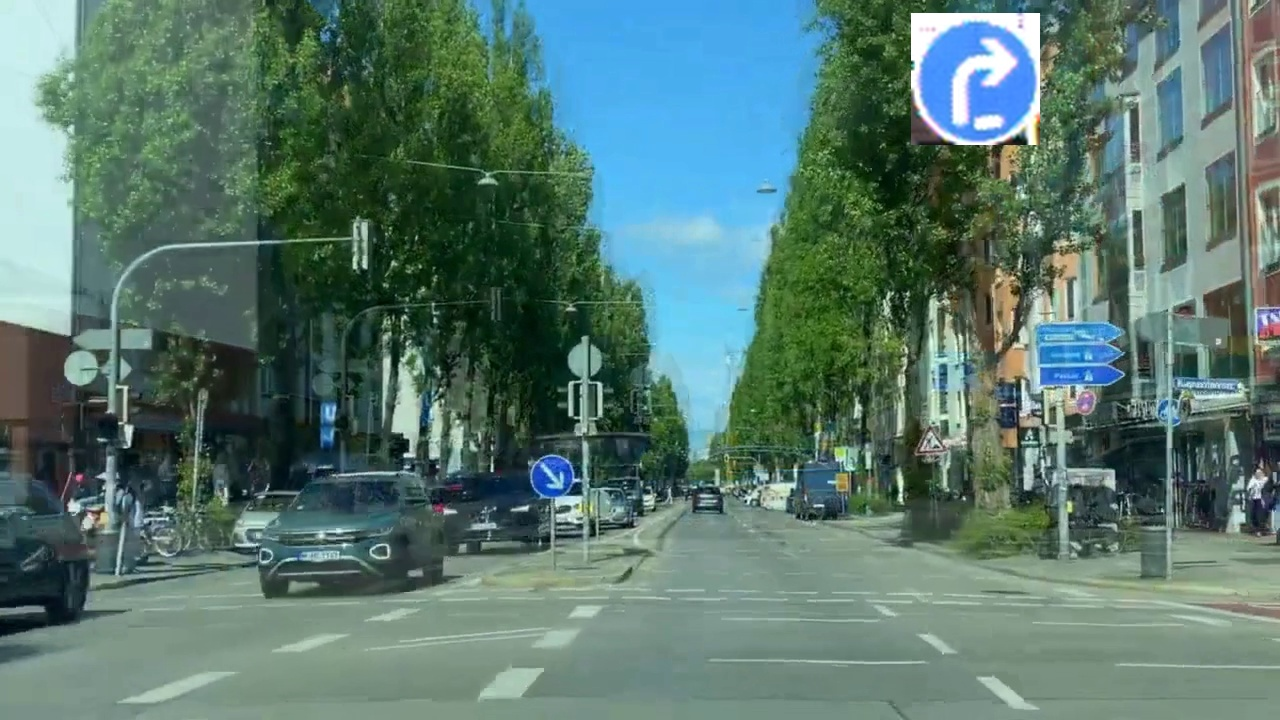Turn right: (911, 13, 1040, 145)
